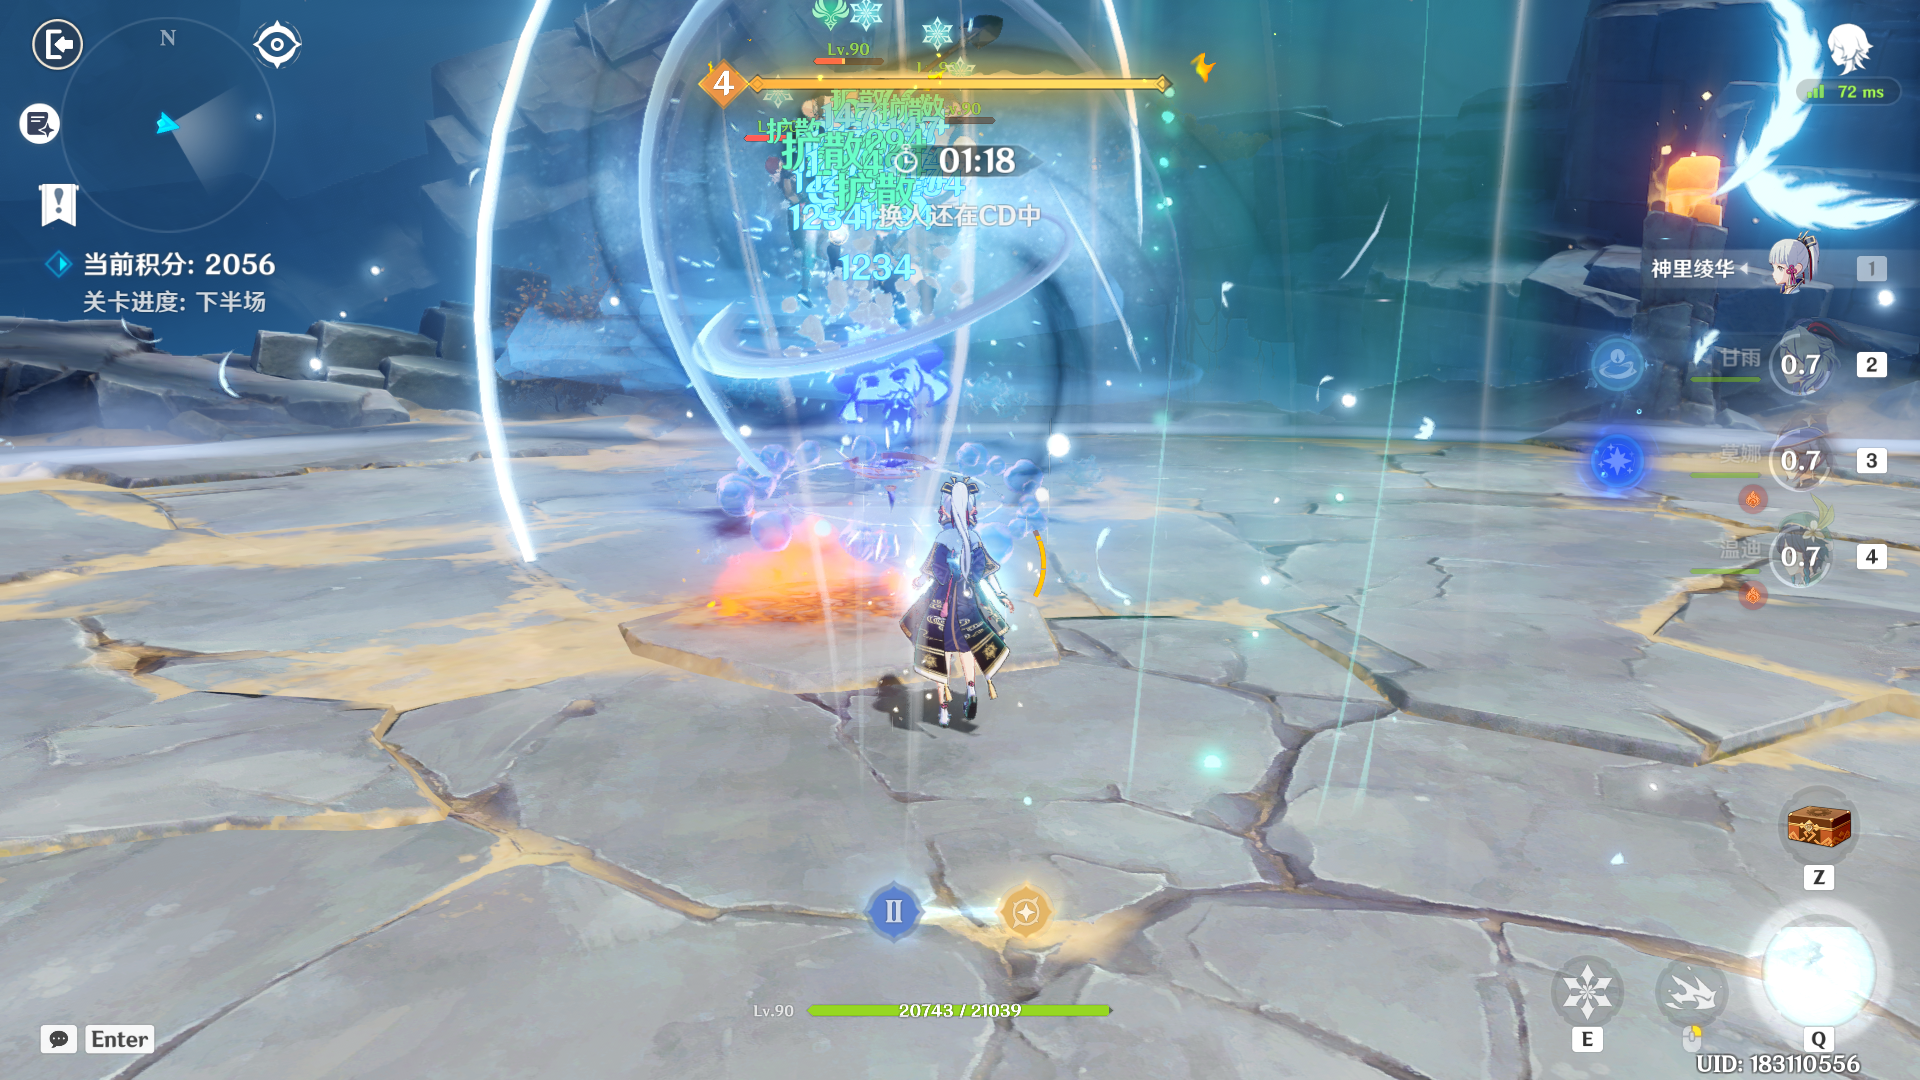character: (857, 448, 1055, 735)
